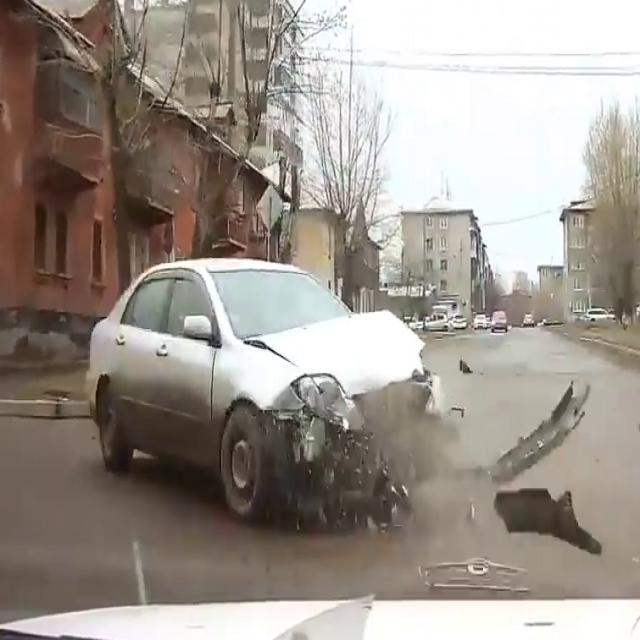accident: (75, 247, 456, 534)
